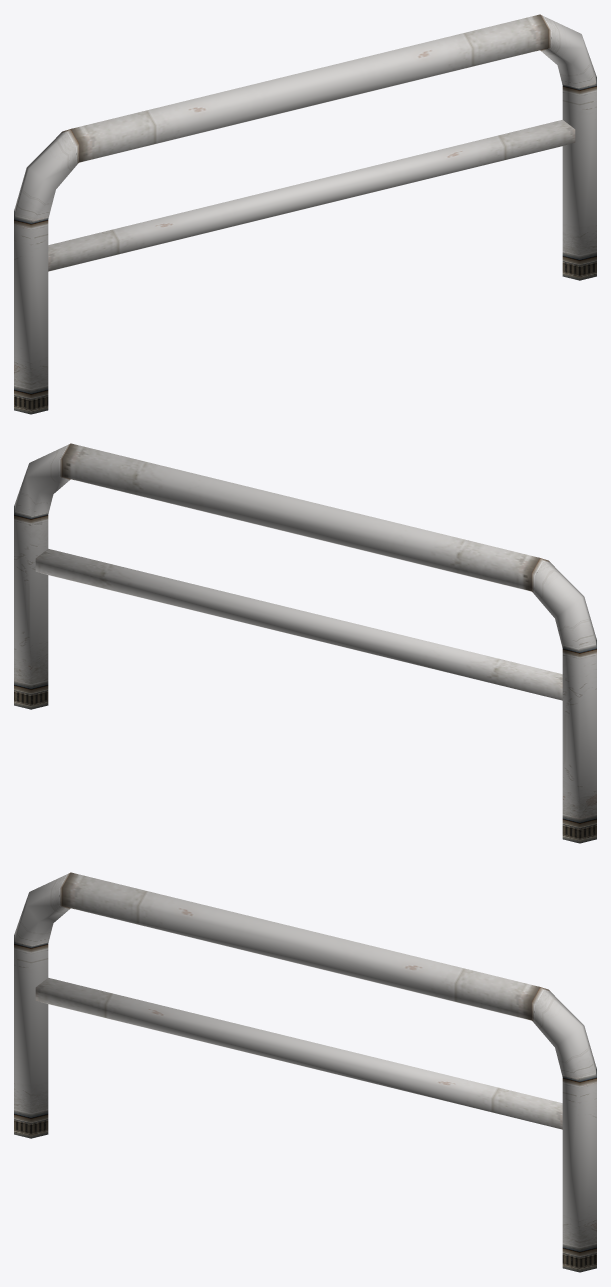
The model's file is scifi_handrail_1.FBX.
3 renders of one model, top to bottom at view 1: azimuth 30°, elevation 25°; view 2: azimuth 150°, elevation 25°; view 3: azimuth 330°, elevation 25°, orthographic.
Parts seen in each view (by area): view 1: Cylinder071; view 2: Cylinder071; view 3: Cylinder071.
Boxes of the visible parts, x1,y1,x2,y2 form: Cylinder071: (14,14,596,414); Cylinder071: (14,443,596,843); Cylinder071: (14,872,596,1272).
Bounding box in the file's own units: 216 × 94.7 × 11.
